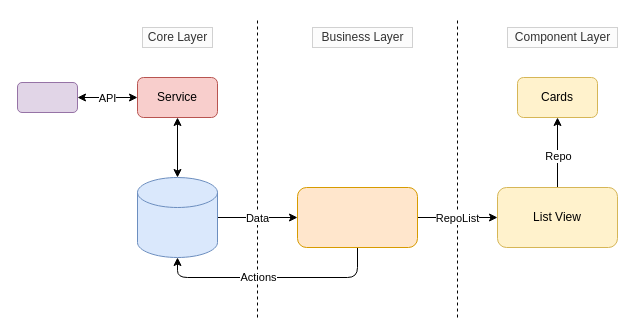
Image size: 635x336. Some labels were removed from this diagram. Here are the shapes that lost their labels. From the top down, the centre of each, then its label:
At (47,97): "GitHub".
At (177,217): "Store".
At (357,217): "App Component".
